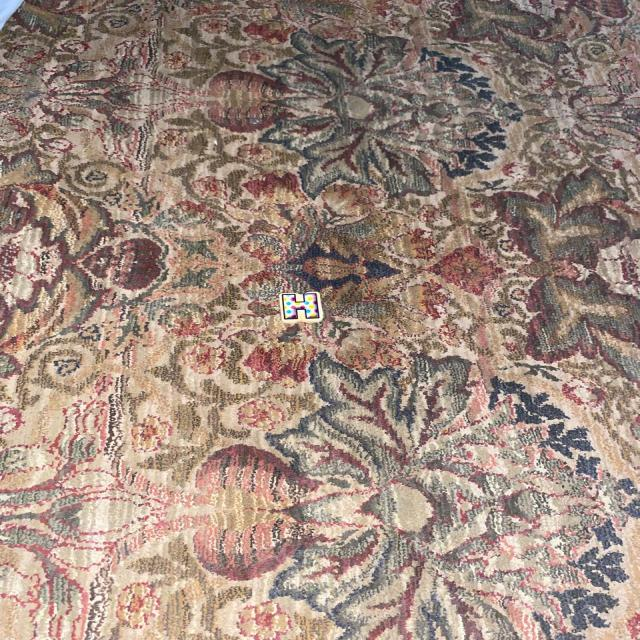H: (280, 292, 321, 322)
